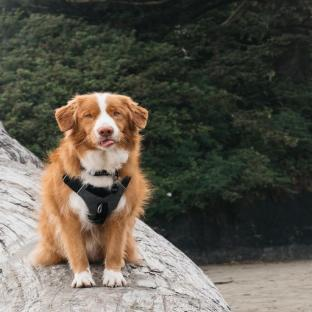Animal: (30, 92, 149, 287)
